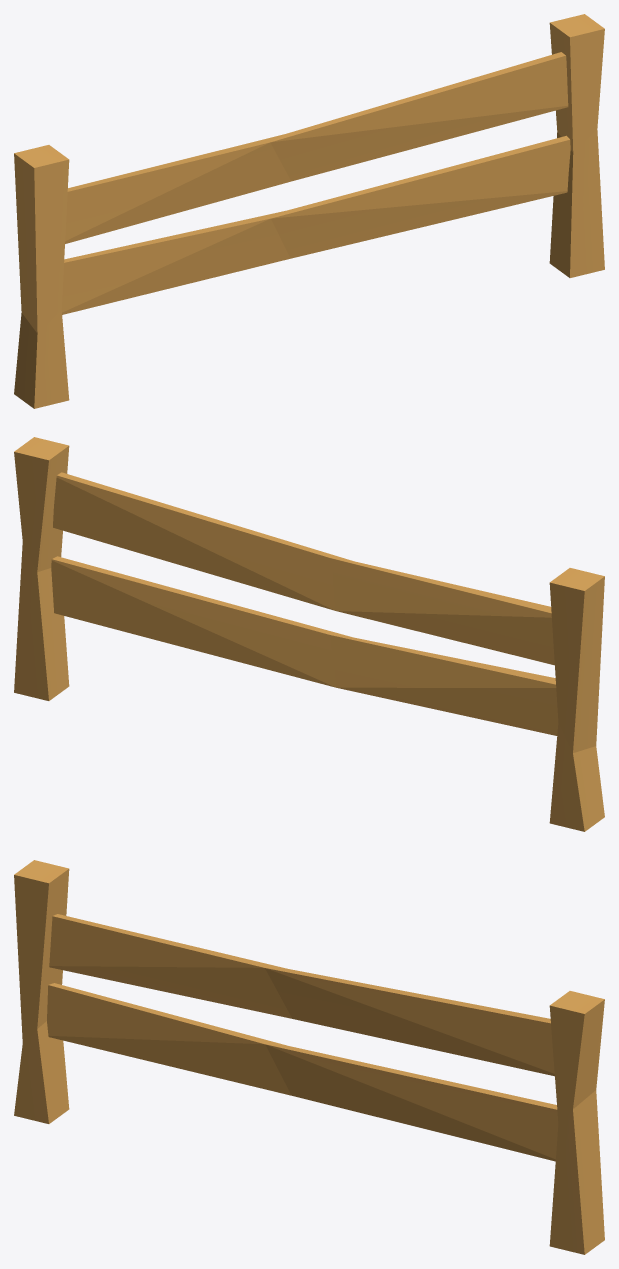
File: Fence 1.fbx
3 renders of one model, top to bottom at view 1: azimuth 30°, elevation 25°; view 2: azimuth 150°, elevation 25°; view 3: azimuth 330°, elevation 25°, orthographic.
Visible parts, largest first — view 1: Fence 1; view 2: Fence 1; view 3: Fence 1.
Boxes of the visible parts, box(x1,y1,x2,y2) form: Fence 1: box(14, 14, 604, 408); Fence 1: box(14, 437, 604, 831); Fence 1: box(14, 860, 604, 1254).
Bounding box in the file's own units: 265 × 107 × 19.7.
